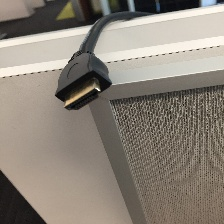hdmi_male: (79, 89, 167, 184)
